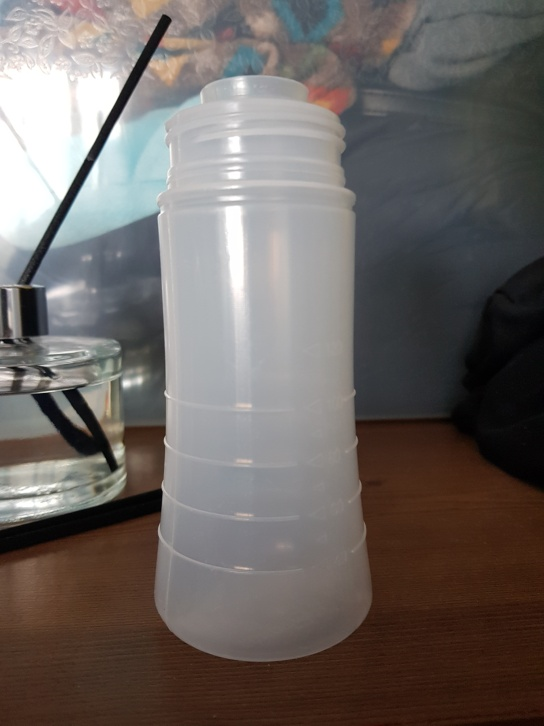Plastic: (142, 74, 378, 670)
